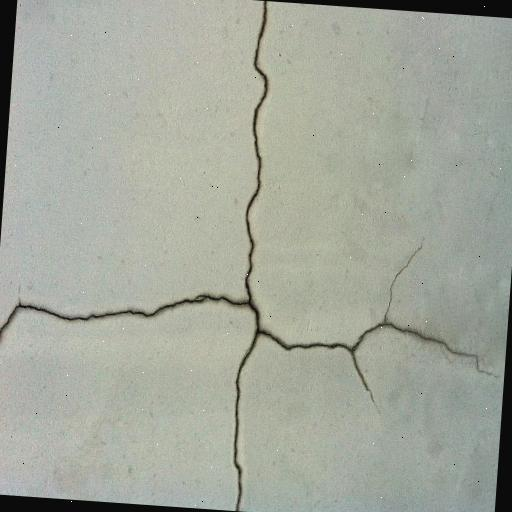spalling: (272, 230, 479, 408), (226, 4, 275, 504), (0, 284, 240, 363)
